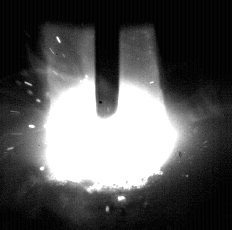arame: (95, 0, 121, 118)
poca: (45, 0, 180, 230)
